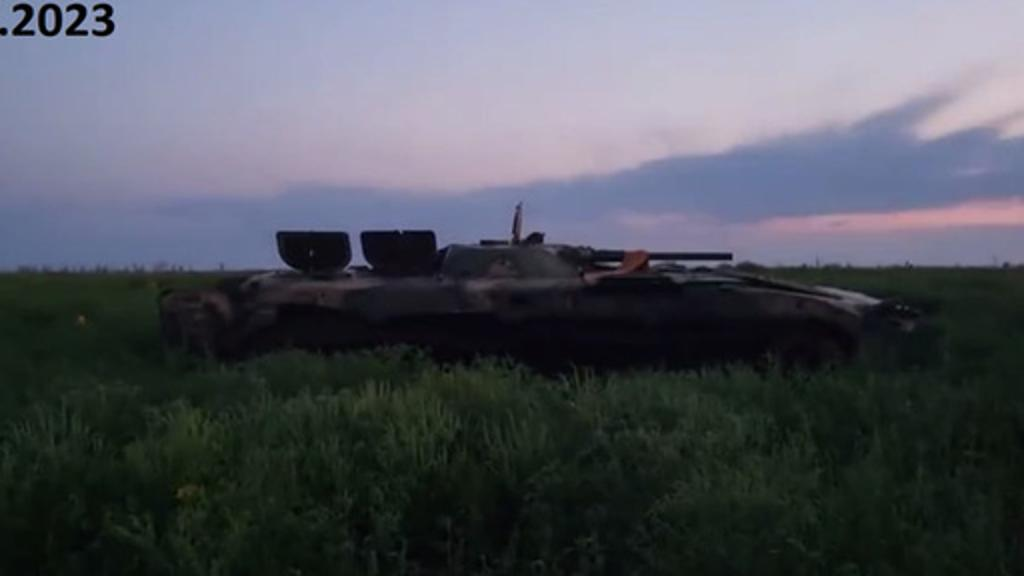APC-IFV: (164, 216, 926, 404)
